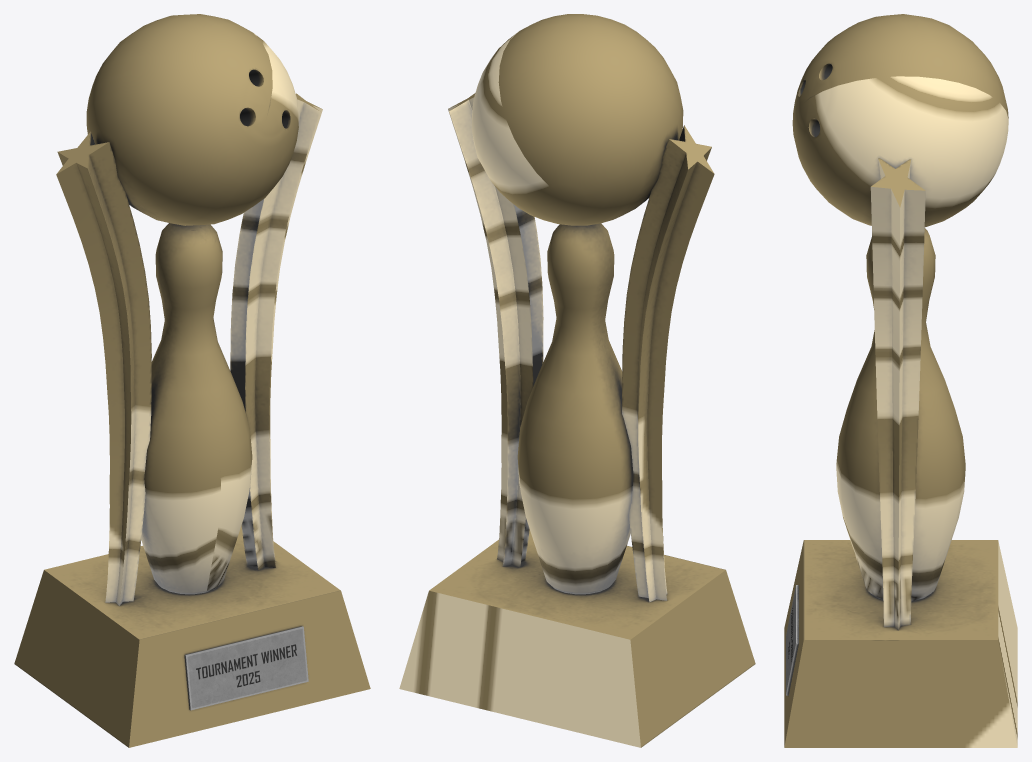
File: SM_GoldenTrophy.fbx
The picture shows the model from 3 angles, left to right: view 1: azimuth 30°, elevation 25°; view 2: azimuth 150°, elevation 25°; view 3: azimuth 270°, elevation 25°; orthographic projection.
Parts seen in each view (by area): view 1: SM_GoldenTrophy_LOD0; view 2: SM_GoldenTrophy_LOD0; view 3: SM_GoldenTrophy_LOD0.
Boxes of the visible parts, left/top/right/bottom form: SM_GoldenTrophy_LOD0: left=14, top=14, right=370, bottom=747; SM_GoldenTrophy_LOD0: left=399, top=14, right=755, bottom=747; SM_GoldenTrophy_LOD0: left=784, top=14, right=1017, bottom=747.
Bounding box in the file's own units: 19.9 × 14.82 × 46.52.
1 material, 1 textured.
